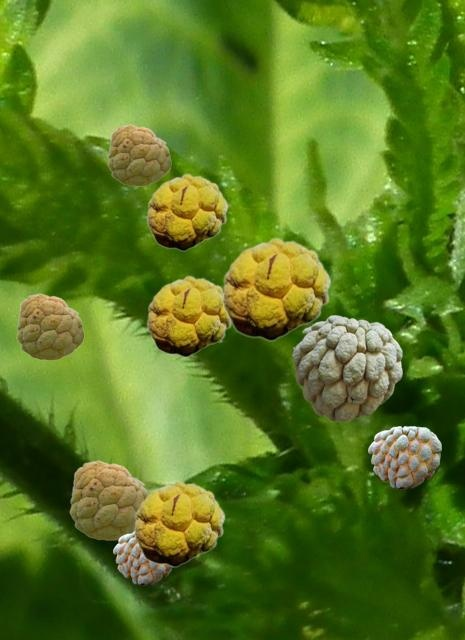atis: (292, 315, 401, 420), (221, 237, 330, 340), (133, 480, 224, 566), (146, 275, 231, 356), (69, 460, 148, 539), (146, 173, 227, 250), (368, 426, 440, 488), (16, 293, 83, 359), (107, 124, 170, 185), (113, 532, 173, 584)
